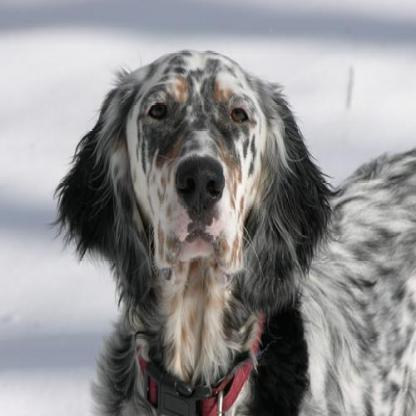English_setter: (39, 45, 413, 413)
